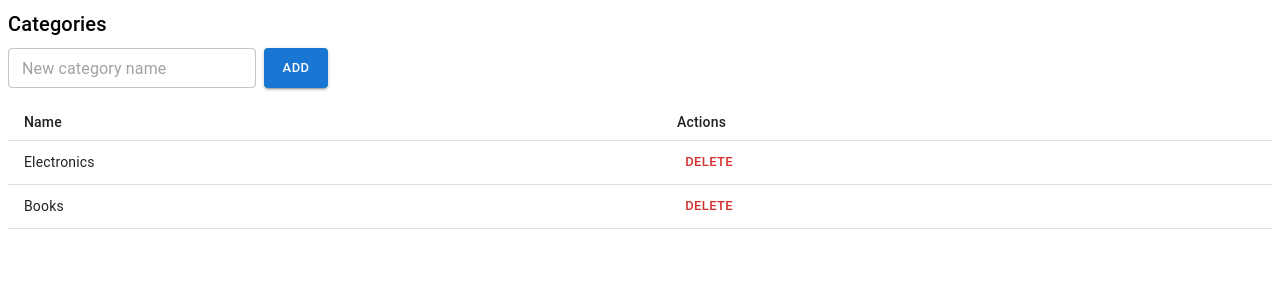
Scenario: CategoryTable › creates a new category
Expected: the text "Electronics" is shown, [8,140,661,184]
Type "Clothing" into the field with placeholder "New category name" at (132, 68), box [8,48,256,88]
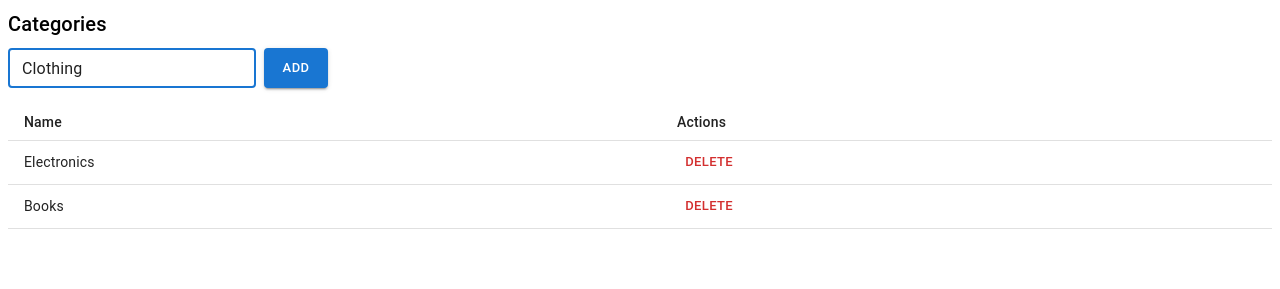
Click the button "Add" at (296, 68), box [264,48,328,88]
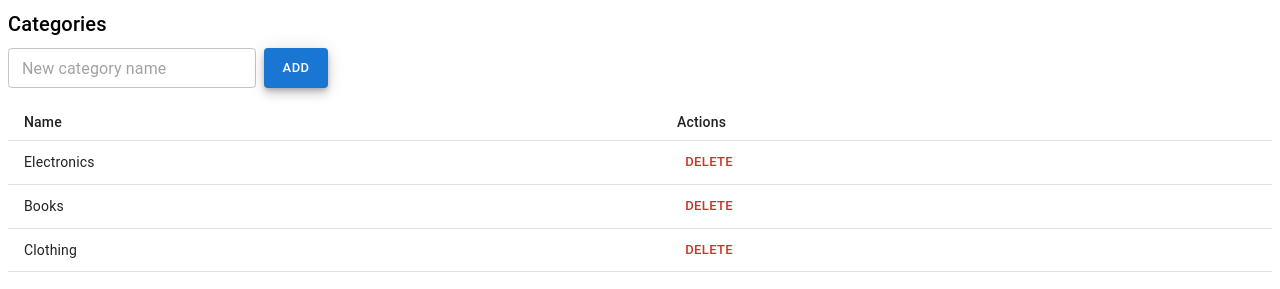
Now the text "Clothing" is shown, box [8,228,661,272]
